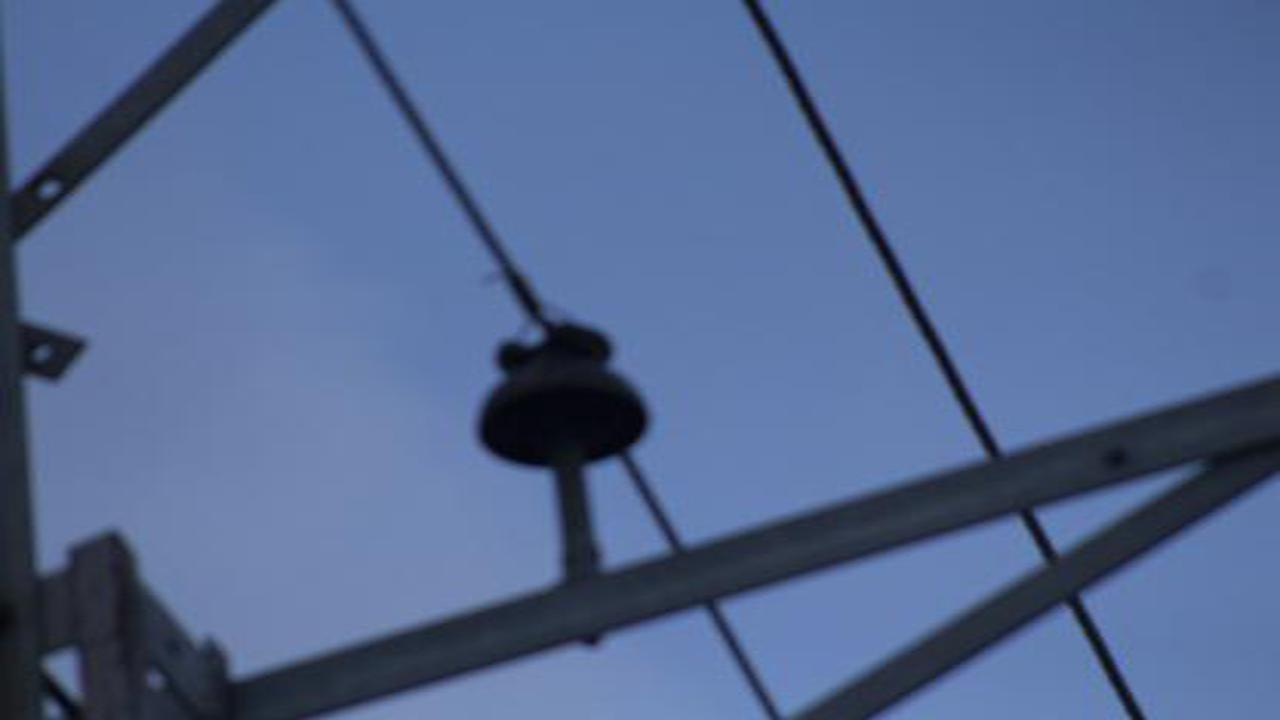insulator_pin: (472, 315, 655, 477)
